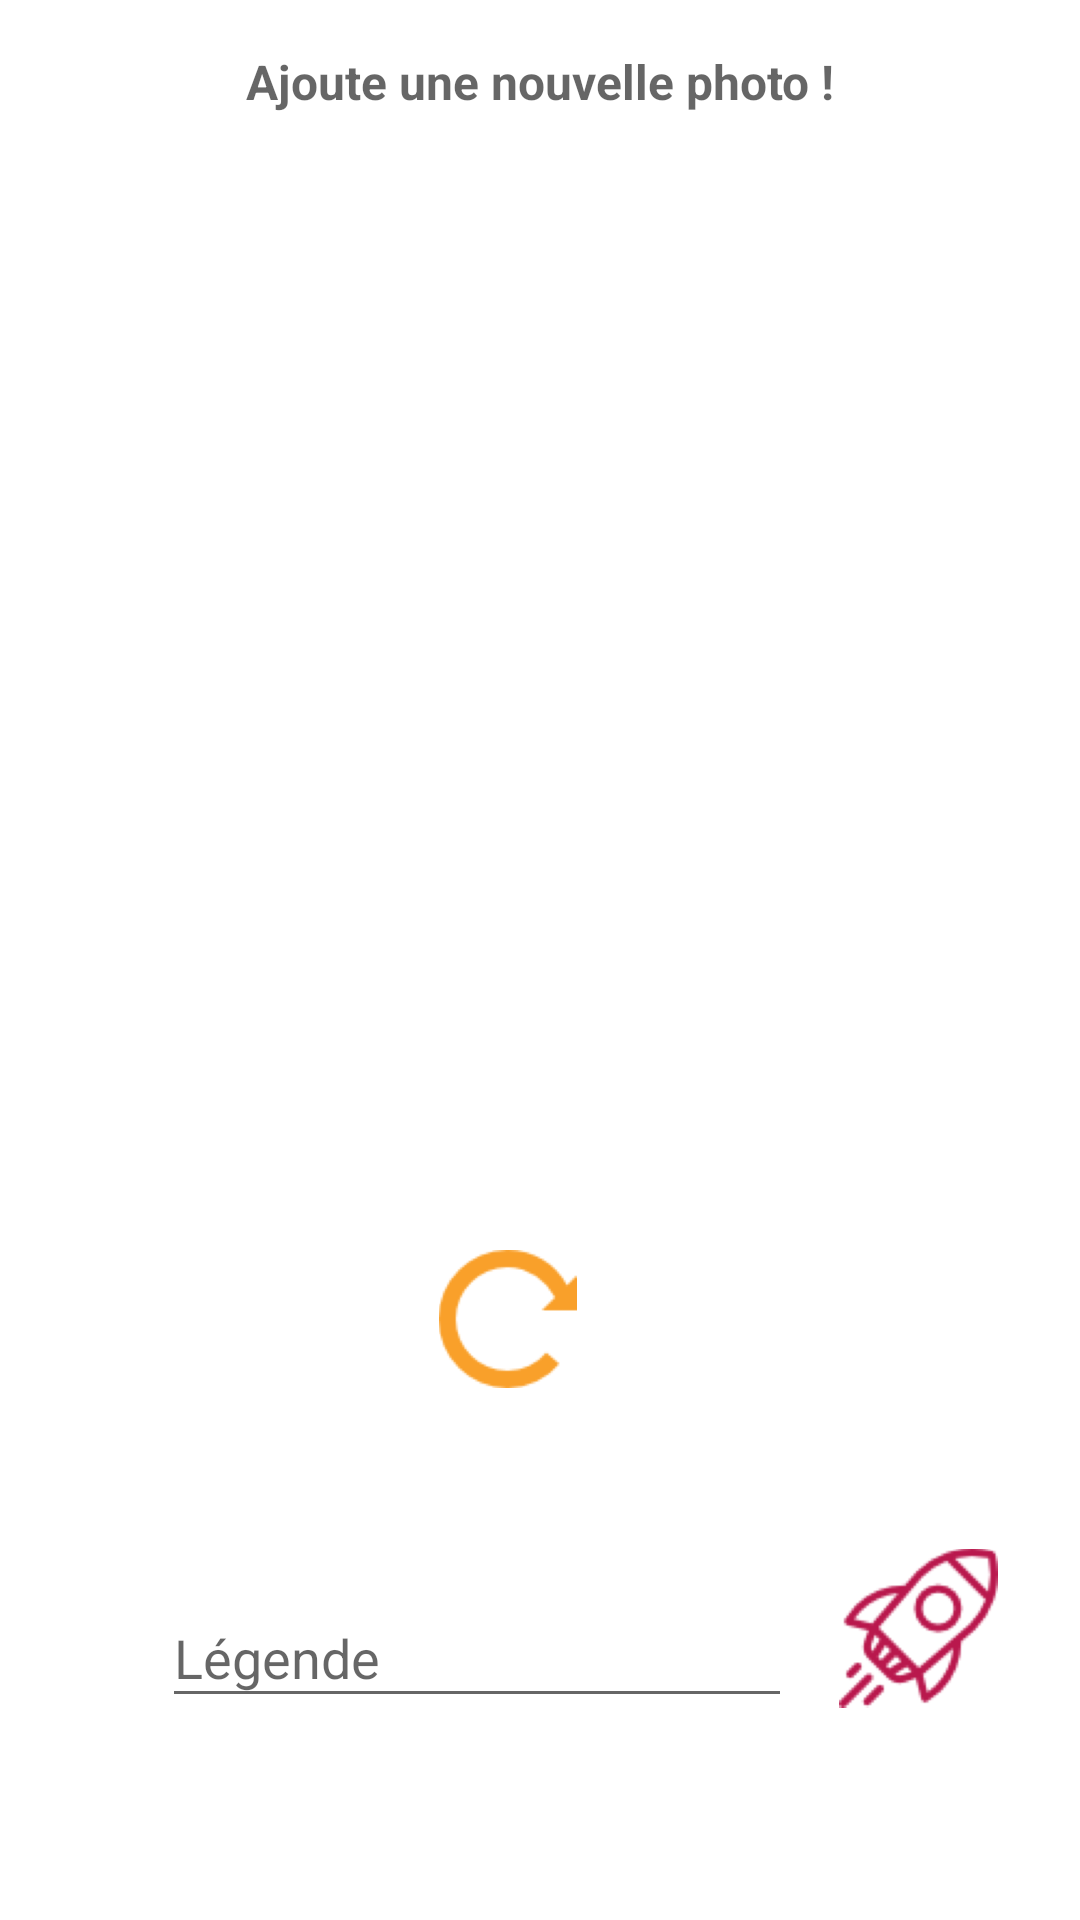

Point at icon controls on the screen. Image size 1080w x 1920h, points as (x=x, y=y).
rocket: (x=918, y=1628)
rotate: (x=508, y=1319)
